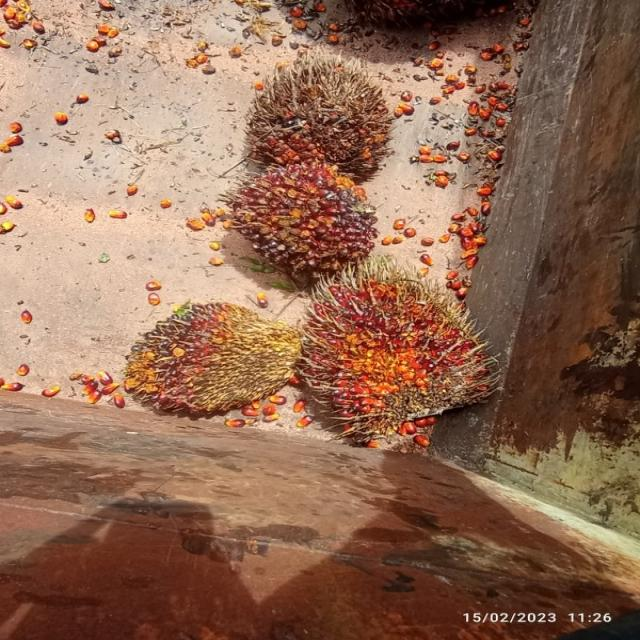fraksi 1: (111, 276, 323, 441), (210, 31, 424, 194), (200, 158, 378, 289)
fraksi 3: (291, 254, 497, 439)
